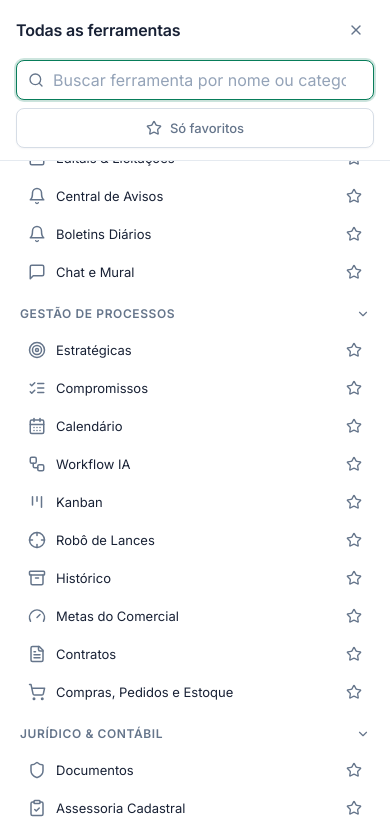
Scenario: MenuDeFerramentas — favoritos e recentes › recentes não duplicam a mesma ferramenta
The width and height of the screenshot is (390, 831).
Earlier steps of the test are not shown.
(page scrolled)
Click the link "Kanban". click: (65, 502)
box: [28,493,103,511]
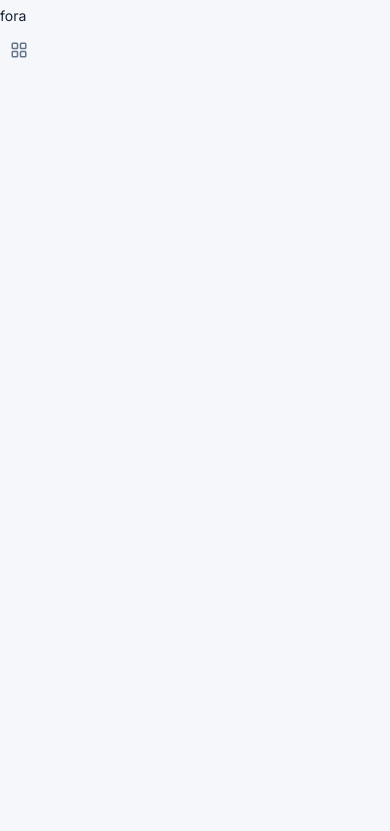
Click the button named "Todas as ferramentas". click: (19, 50)
box: [0,32,38,68]
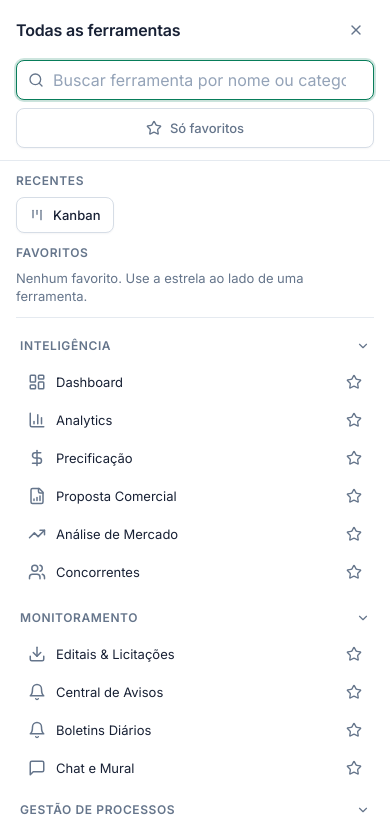
Click the link "Kanban". click: (65, 215)
box: [16,197,114,233]
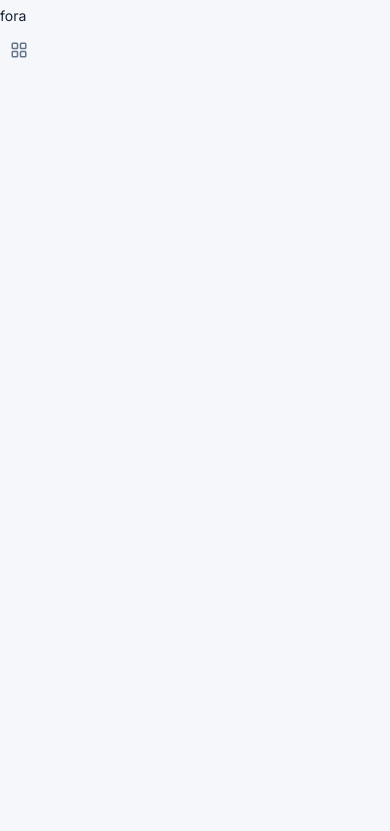
Click the button named "Todas as ferramentas". click: (19, 50)
box: [0,32,38,68]
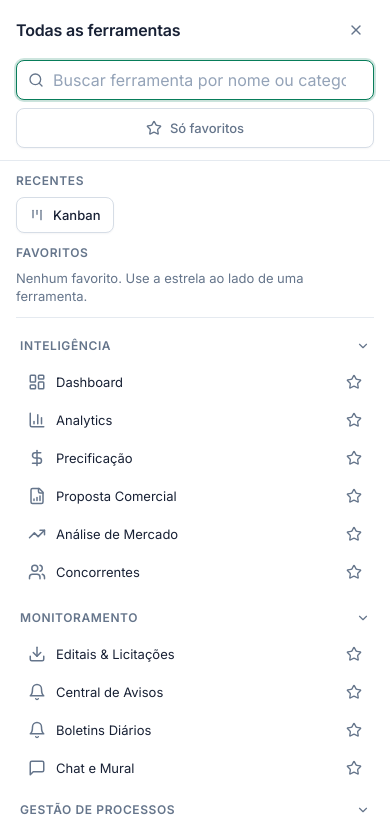
Expected: the number of links "Kanban" is 1, [16,197,114,233]
